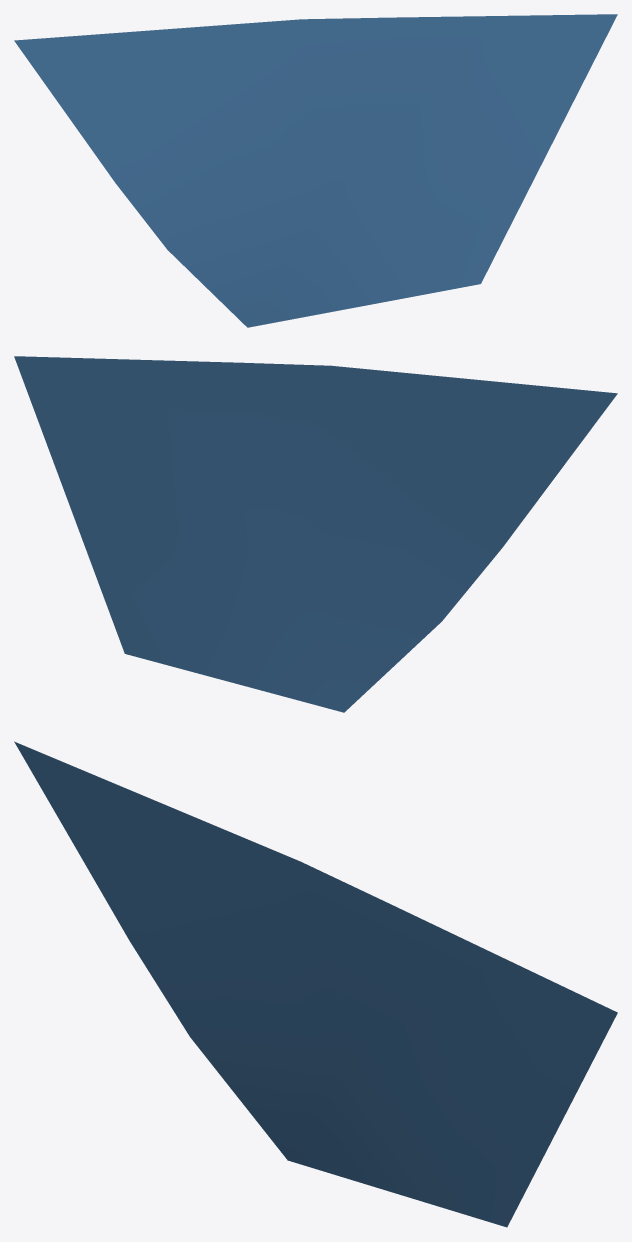
File: tripo_node_009b0717.004.glb
3 renders of one model, top to bottom at view 1: azimuth 30°, elevation 25°; view 2: azimuth 150°, elevation 25°; view 3: azimuth 330°, elevation 25°, orthographic. The views are drawn at different scales.
Visible parts, largest first — view 1: tripo_node_009b0717.004; view 2: tripo_node_009b0717.004; view 3: tripo_node_009b0717.004.
Boxes of the visible parts, x1,y1,x2,y2 form: tripo_node_009b0717.004: (14, 14, 617, 327); tripo_node_009b0717.004: (14, 356, 617, 712); tripo_node_009b0717.004: (14, 741, 617, 1227).
Size of the model in its own units: 0.0046 by 0.00268 by 0.000318.
